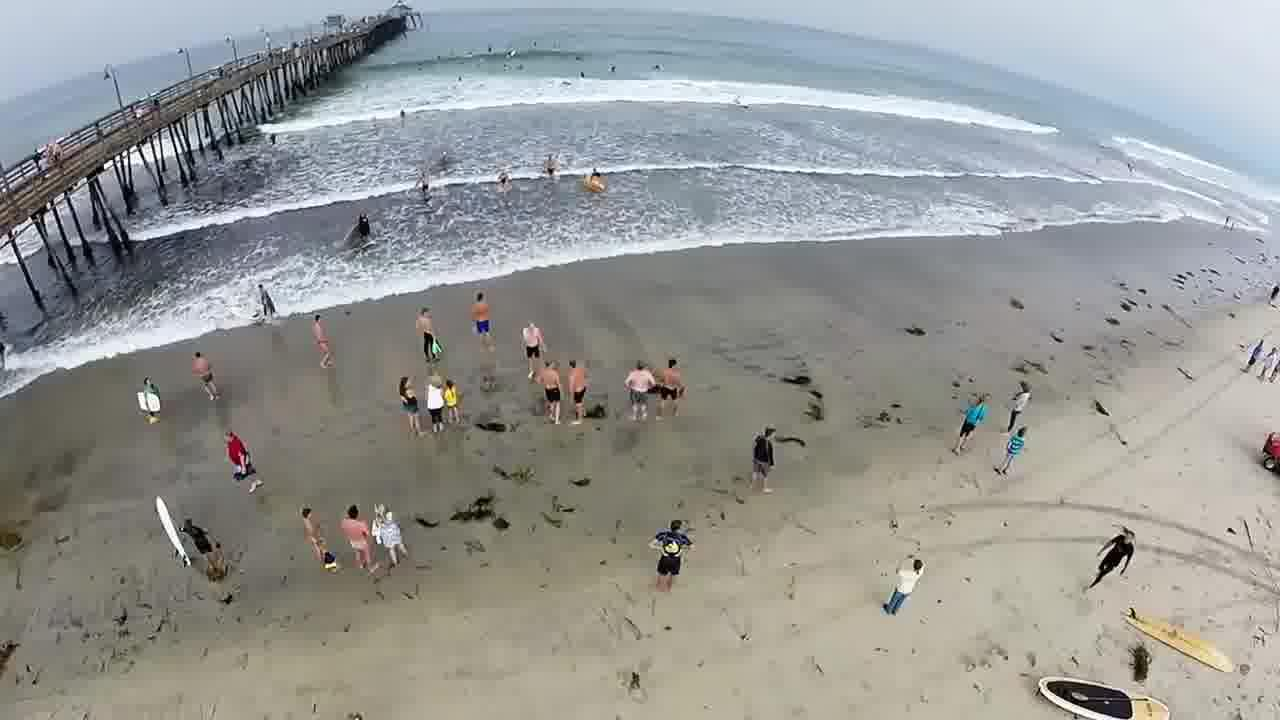swimmer: (345, 202, 386, 241), (244, 273, 283, 313), (537, 142, 561, 188), (489, 164, 513, 200), (414, 168, 431, 207)
